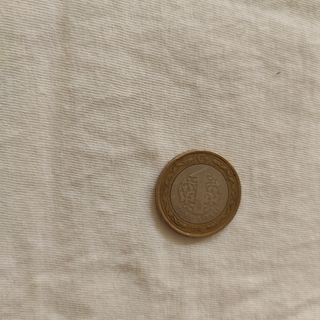1TL: (153, 147, 243, 239)
